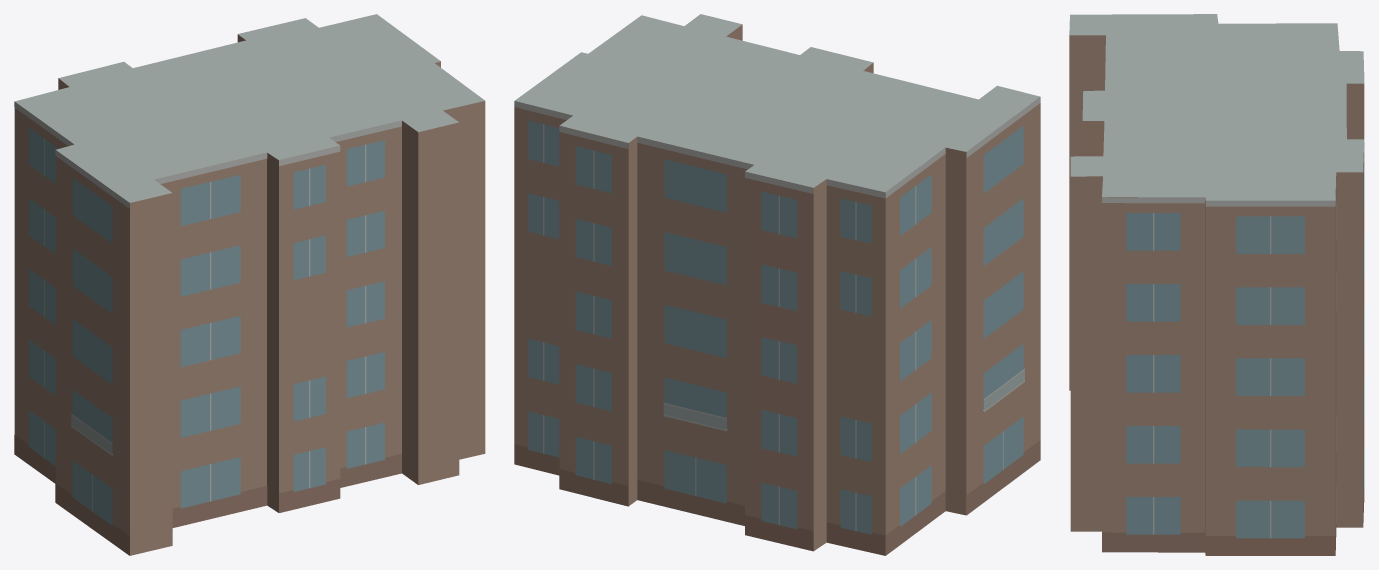
Rendered from survey-upis-32817185.glb.
3 views of the same model, side by side, from view 1: azimuth 30°, elevation 25°; view 2: azimuth 150°, elevation 25°; view 3: azimuth 270°, elevation 25° (orthographic). The views are drawn at different scales.
Visible parts, largest first — view 1: survey-upis-32817185.tmp; view 2: survey-upis-32817185.tmp; view 3: survey-upis-32817185.tmp.
Part boxes in pixels (<box>): survey-upis-32817185.tmp: <box>14,14,485,555</box>; survey-upis-32817185.tmp: <box>514,14,1040,555</box>; survey-upis-32817185.tmp: <box>1069,14,1364,555</box>.
Size of the model in its own units: 16.15 by 14.3 by 10.77.
